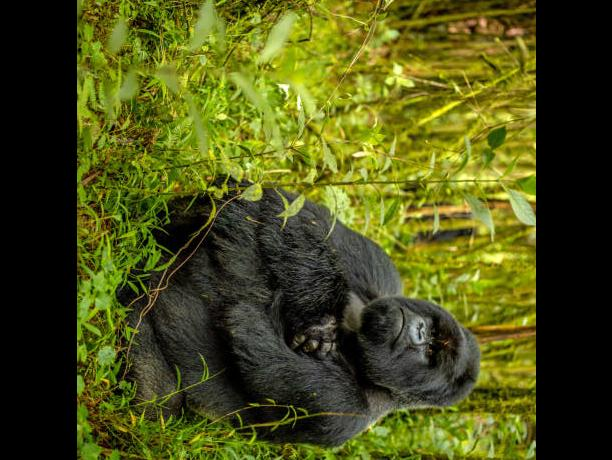goriile_montagne: (138, 189, 489, 433)
